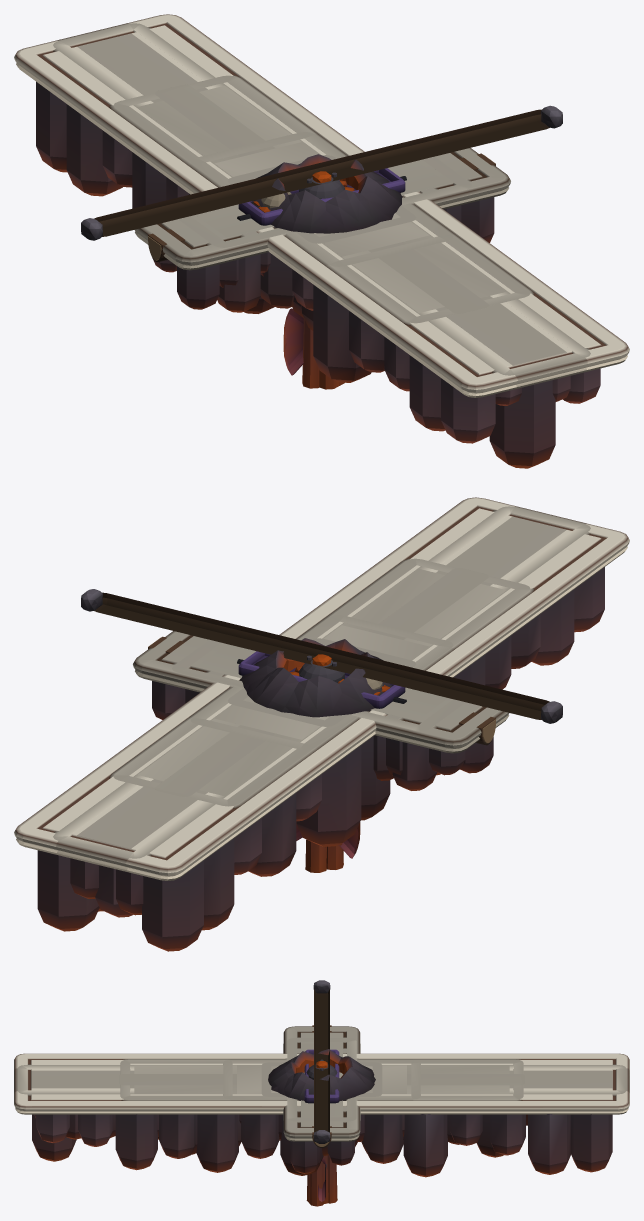
File: volcano-3-CvroPbGw.glb
3 renders of one model, top to bottom at view 1: azimuth 30°, elevation 25°; view 2: azimuth 150°, elevation 25°; view 3: azimuth 270°, elevation 25°, orthographic. The views are drawn at different scales.
Parts seen in each view (by area): view 1: block_10x2x48#0, block_6x2x48#0, block_8x2x32_grate#0, mount_13.8#0, block_20x2x6#0, block_8x2x16#0, geyserVent_3.9#0, block_2.5x2x32_grate#0, block_16x2x6#0, block_7x2x10#0, burner_8x1.2x2#0, blade_3x10x1_wheel#0 (+3 smaller); view 2: block_10x2x48#0, block_6x2x48#0, block_8x2x32_grate#0, mount_13.8#0, block_20x2x6#0, block_8x2x16#0, block_16x2x6#0, block_2.5x2x32_grate#0, geyserVent_3.9#0, block_7x2x10#0, burner_8x1.2x2#0, support_1_round#0 (+3 smaller); view 3: block_10x2x48#0, block_8x2x32_grate#0, block_6x2x48#0, block_8x2x16#0, block_20x2x6#0, geyserVent_3.9#0, block_2.5x2x32_grate#0, mount_13.8#0, block_16x2x6#0, support_1_round#0, block_7x2x10#0, burner_8x1.2x2#0.
Boxes of the visible parts, x1=… form: block_10x2x48#0: x1=14, y1=14, x2=629, y2=468; block_6x2x48#0: x1=53, y1=23, x2=590, y2=405; block_8x2x32_grate#0: x1=109, y1=75, x2=534, y2=330; mount_13.8#0: x1=81, y1=105, x2=562, y2=240; block_20x2x6#0: x1=134, y1=148, x2=510, y2=312; block_8x2x16#0: x1=189, y1=132, x2=455, y2=318; geyserVent_3.9#0: x1=251, y1=154, x2=402, y2=233; block_2.5x2x32_grate#0: x1=154, y1=84, x2=489, y2=313; block_16x2x6#0: x1=178, y1=156, x2=471, y2=287; block_7x2x10#0: x1=228, y1=155, x2=416, y2=243; burner_8x1.2x2#0: x1=238, y1=168, x2=405, y2=225; blade_3x10x1_wheel#0: x1=283, y1=308, x2=303, y2=375; block_10x2x48#0: x1=14, y1=497, x2=629, y2=951; block_6x2x48#0: x1=53, y1=506, x2=590, y2=915; block_8x2x32_grate#0: x1=109, y1=558, x2=534, y2=808; mount_13.8#0: x1=81, y1=589, x2=562, y2=723; block_20x2x6#0: x1=133, y1=631, x2=509, y2=775; block_8x2x16#0: x1=189, y1=615, x2=454, y2=749; block_16x2x6#0: x1=172, y1=639, x2=465, y2=790; block_2.5x2x32_grate#0: x1=154, y1=568, x2=489, y2=797; geyserVent_3.9#0: x1=239, y1=638, x2=392, y2=717; block_7x2x10#0: x1=228, y1=638, x2=416, y2=726; burner_8x1.2x2#0: x1=238, y1=651, x2=405, y2=708; support_1_round#0: x1=305, y1=839, x2=343, y2=872; block_10x2x48#0: x1=14, y1=1053, x2=629, y2=1177; block_8x2x32_grate#0: x1=120, y1=1059, x2=523, y2=1157; block_6x2x48#0: x1=14, y1=1064, x2=629, y2=1139; block_8x2x16#0: x1=223, y1=1059, x2=420, y2=1155; block_20x2x6#0: x1=283, y1=1026, x2=360, y2=1173; geyserVent_3.9#0: x1=268, y1=1049, x2=375, y2=1101; block_2.5x2x32_grate#0: x1=119, y1=1074, x2=524, y2=1085; mount_13.8#0: x1=313, y1=980, x2=330, y2=1143; block_16x2x6#0: x1=283, y1=1037, x2=360, y2=1123; support_1_round#0: x1=306, y1=1155, x2=337, y2=1206; block_7x2x10#0: x1=261, y1=1062, x2=382, y2=1140; burner_8x1.2x2#0: x1=304, y1=1049, x2=339, y2=1103.
Bounding box in the file's own units: 28.5 × 12.4 × 48.
